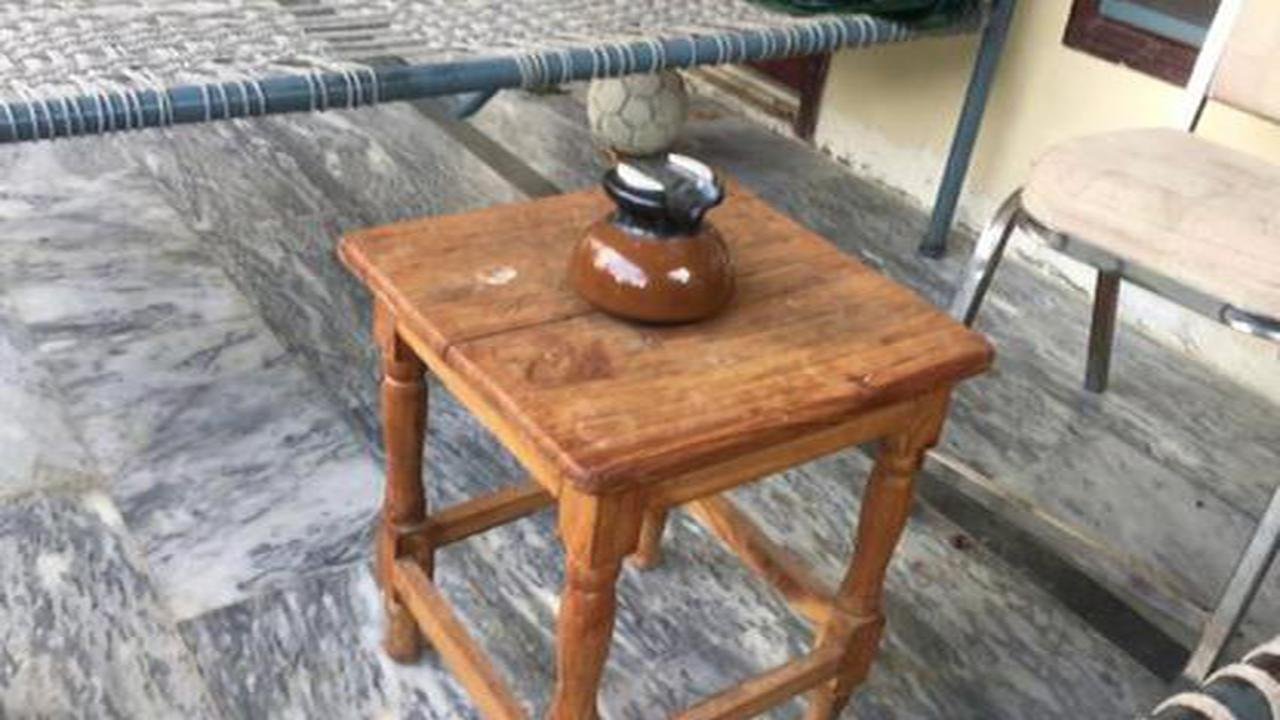insulator_pin: (557, 139, 736, 331)
